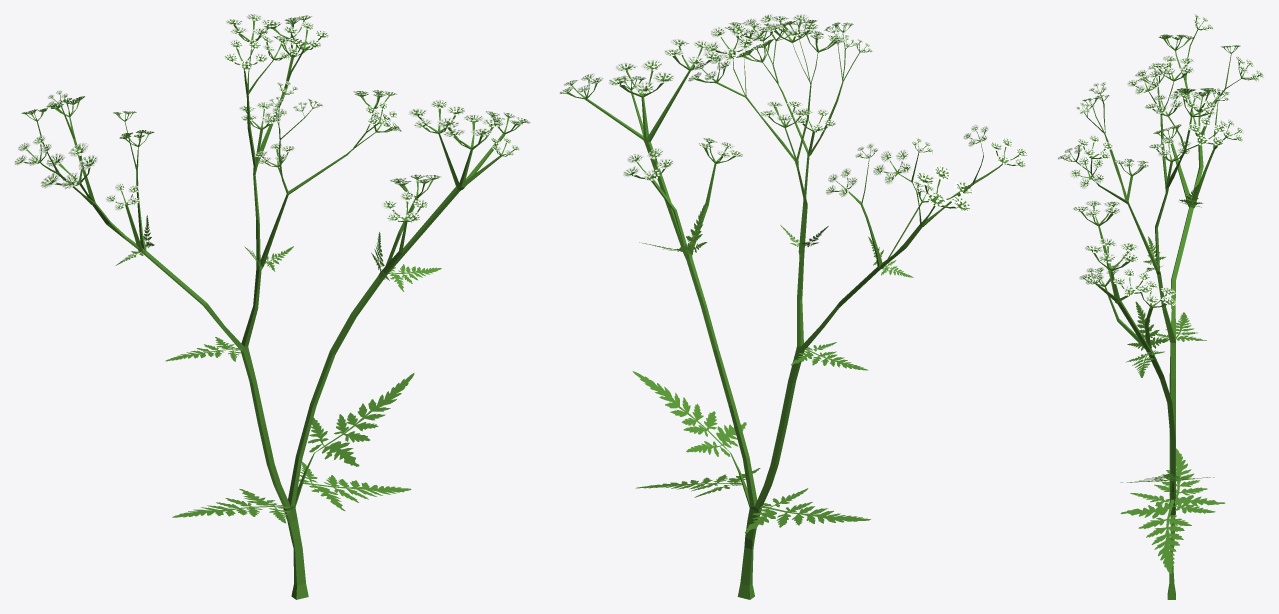
Rendered from wiesen-_kerbel_anthriscus_sylvestris.glb.
3 renders of one model, left to right at view 1: azimuth 30°, elevation 25°; view 2: azimuth 150°, elevation 25°; view 3: azimuth 270°, elevation 25°, orthographic. The views are drawn at different scales.
Visible parts, largest first — view 1: Object_3, Object_2, Object_4; view 2: Object_3, Object_2, Object_4; view 3: Object_3, Object_2, Object_4.
Part boxes in pixels (x1,y1,x2,y2): Object_3: (15,20,518,599); Object_2: (14,14,530,222); Object_4: (225,14,529,167); Object_3: (585,15,1026,599); Object_2: (559,14,1028,212); Object_4: (560,15,841,132); Object_3: (1058,15,1262,599); Object_2: (1057,14,1264,305); Object_4: (1060,56,1224,294).
Size of the model in its own units: 0.7395 by 0.8464 by 0.3097.
